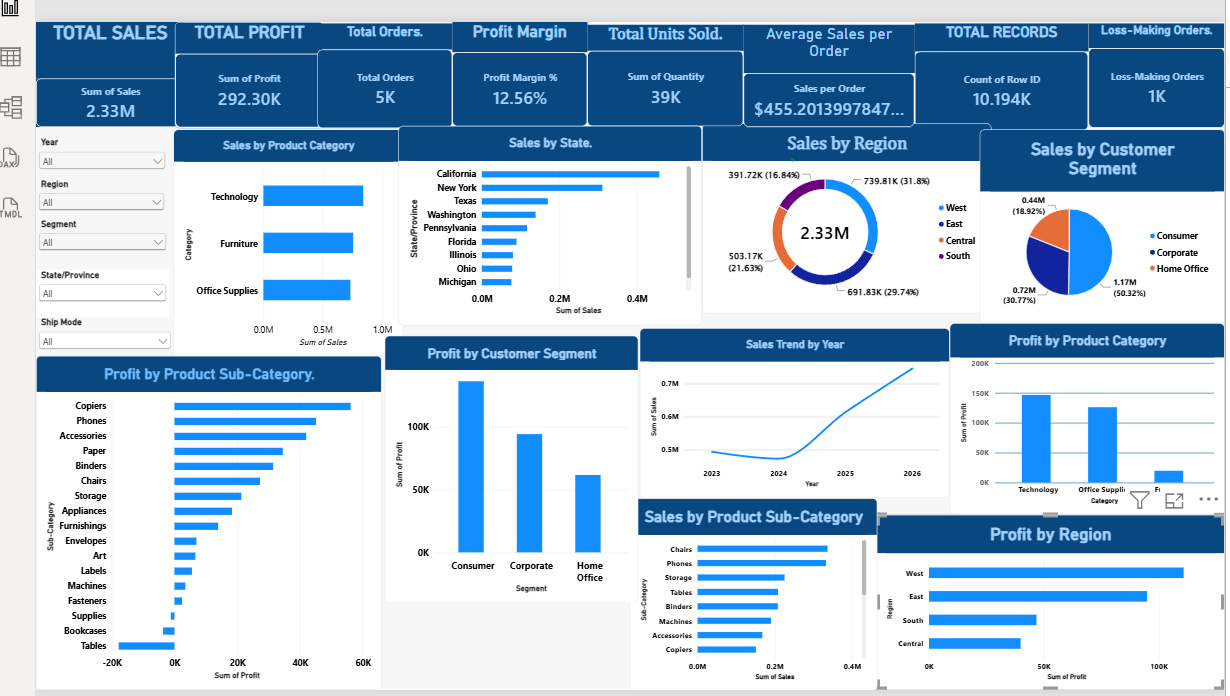

Layout of this report page (visuals, bound fields, positions):
{"tool":"powerbi","page":{"name":"sales overview","canvas":[1920,1080],"ordinal":0},"visuals":[{"type":"cardVisual","title":"    TOTAL SALES ","fields":{"Data":["Sum(Orders.Sales)"]},"box":[0,0,240.3,169.6],"z":0},{"type":"cardVisual","title":"TOTAL PROFIT ","fields":{"Data":["Sum(Orders.Profit)"]},"box":[224.1,0,240.3,171.6],"z":1000},{"type":"cardVisual","title":"TOTAL RECORDS","fields":{"Data":["CountNonNull(Orders.Row ID)"]},"box":[1419.6,2,280.7,173.7],"z":2000},{"type":"lineChart","title":"Sales Trend by Year","fields":{"Category":["Orders.Order Date.Variation.Date Hierarchy.Year","Orders.Order Date.Variation.Date Hierarchy.Quarter","Orders.Order Date.Variation.Date Hierarchy.Month","Orders.Order Date.Variation.Date Hierarchy.Day"],"Y":["Sum(Orders.Sales)"]},"box":[975.4,494.7,500.8,274.6],"z":3000},{"type":"clusteredBarChart","title":"Sales by Product Category","fields":{"Category":["Orders.Category"],"Y":["Sum(Orders.Sales)"]},"box":[222.1,173.7,371.6,367.5],"z":4000},{"type":"clusteredColumnChart","title":"Profit by Product Category","fields":{"Category":["Orders.Category"],"Y":["Sum(Orders.Profit)"]},"box":[1476.2,486.7,444.3,309],"z":5000},{"type":"donutChart","title":"Sales by Region","fields":{"Category":["Orders.Region"],"Y":["Sum(Orders.Sales)"]},"box":[1076.3,163.6,467.5,307.5],"z":6000},{"type":"clusteredBarChart","title":"Profit by Region","fields":{"Category":["Orders.Region"],"Y":["Sum(Orders.Profit)"]},"box":[1357,795.6,563.4,284.7],"z":7000},{"type":"clusteredBarChart","title":"Sales by Product Sub-Category","fields":{"Category":["Orders.Sub-Category"],"Y":["Sum(Orders.Sales)"]},"box":[959.2,769.4,399.8,311],"z":8000},{"type":"pieChart","title":"Sales by Customer Segment","fields":{"Category":["Orders.Segment"],"Y":["Sum(Orders.Sales)"]},"box":[1524.6,173.7,395.8,313],"z":9000},{"type":"slicer","fields":{"Values":["Orders.Order Date.Variation.Date Hierarchy.Year","Orders.Order Date.Variation.Date Hierarchy.Year"]},"box":[0,185,214.1,67.9],"z":10000},{"type":"slicer","fields":{"Values":["Orders.Region"]},"box":[0,252.5,212.5,75],"z":11000},{"type":"cardVisual","title":"Profit Margin","fields":{"Data":["Orders.Profit Margin %"]},"box":[672.4,0,218.1,169.6],"z":12000},{"type":"cardVisual","title":"Average Sales per Order","fields":{"Data":["Orders.Sales per Order"]},"box":[1143,4,276.7,165.6],"z":13000},{"type":"cardVisual","title":"Total Orders.","fields":{"Data":["Orders.Total Orders"]},"box":[454.4,2,218.1,169.6],"z":14000},{"type":"cardVisual","title":"Total Units Sold.","fields":{"Data":["Sum(Orders.Quantity)"]},"box":[890.5,4,252.5,165],"z":15000},{"type":"slicer","fields":{"Values":["Orders.Segment"]},"box":[0,317.5,215,60],"z":16000},{"type":"slicer","fields":{"Values":["Orders.Ship Mode"]},"box":[0,477.5,222.5,65],"z":17000},{"type":"slicer","fields":{"Values":["Orders.State/Province"]},"box":[0,400,215,77.5],"z":18000},{"type":"clusteredColumnChart","title":"Profit by Customer Segment","fields":{"Category":["Orders.Segment"],"Y":["Sum(Orders.Profit)"]},"box":[563.4,506.9,409.9,432.1],"z":19000},{"type":"clusteredBarChart","title":"Profit by Product Sub-Category.","fields":{"Category":["Orders.Sub-Category"],"Y":["Sum(Orders.Profit)"]},"box":[0,540,558.3,540],"z":20000},{"type":"clusteredBarChart","title":"Sales by State.","fields":{"Category":["Orders.State/Province"],"Y":["Sum(Orders.Sales)"]},"box":[585,167.5,490,322.5],"z":21000},{"type":"cardVisual","title":"Loss-Making Orders.","fields":{"Data":["Orders.Loss-Making Orders"]},"box":[1700.3,2,220.1,169.6],"z":22000}]}

Visuals, with their boxes on the page's 1920x1080 design canvas (x1, y1, x2, y2). These are canvas units, not pixel positions in the 1230x696 screenshot, which may show the page scaled, cropped or inside an application window:
"    TOTAL SALES " cardVisual: box=[0, 0, 240, 170]
"TOTAL PROFIT " cardVisual: box=[224, 0, 464, 172]
"TOTAL RECORDS" cardVisual: box=[1420, 2, 1700, 176]
"Sales Trend by Year" lineChart: box=[975, 495, 1476, 769]
"Sales by Product Category" clusteredBarChart: box=[222, 174, 594, 541]
"Profit by Product Category" clusteredColumnChart: box=[1476, 487, 1920, 796]
"Sales by Region" donutChart: box=[1076, 164, 1544, 471]
"Profit by Region" clusteredBarChart: box=[1357, 796, 1920, 1080]
"Sales by Product Sub-Category" clusteredBarChart: box=[959, 769, 1359, 1080]
"Sales by Customer Segment" pieChart: box=[1525, 174, 1920, 487]
slicer - Orders.Order Date.Variation.Date Hierarchy.Year x Orders.Order Date.Variation.Date Hierarchy.Year: box=[0, 185, 214, 253]
slicer - Orders.Region: box=[0, 252, 212, 328]
"Profit Margin" cardVisual: box=[672, 0, 890, 170]
"Average Sales per Order" cardVisual: box=[1143, 4, 1420, 170]
"Total Orders." cardVisual: box=[454, 2, 672, 172]
"Total Units Sold." cardVisual: box=[890, 4, 1143, 169]
slicer - Orders.Segment: box=[0, 318, 215, 378]
slicer - Orders.Ship Mode: box=[0, 478, 222, 542]
slicer - Orders.State/Province: box=[0, 400, 215, 478]
"Profit by Customer Segment" clusteredColumnChart: box=[563, 507, 973, 939]
"Profit by Product Sub-Category." clusteredBarChart: box=[0, 540, 558, 1080]
"Sales by State." clusteredBarChart: box=[585, 168, 1075, 490]
"Loss-Making Orders." cardVisual: box=[1700, 2, 1920, 172]
